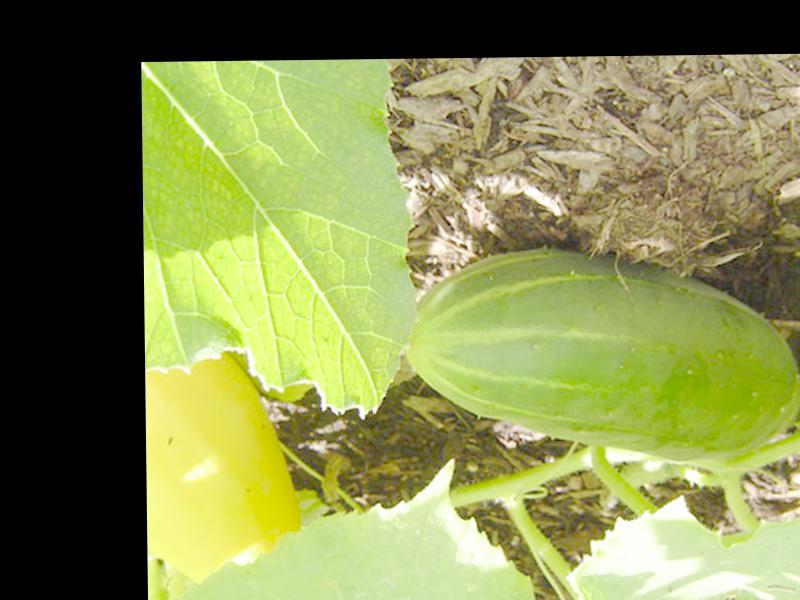Cucumber: (403, 243, 800, 466)
